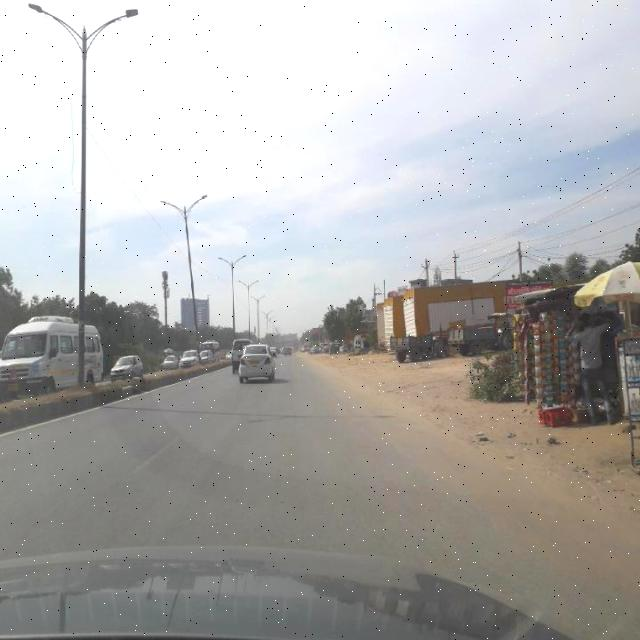D44: (126, 422, 194, 484)
